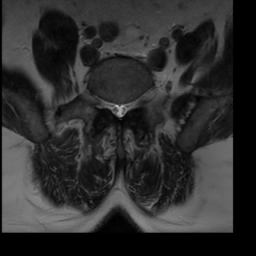CCS_severe_stenosis: (115, 95, 122, 124)
LFS_normal: (129, 93, 137, 116)
LLS_normal: (122, 95, 129, 119)
RFS_normal: (101, 92, 108, 117)
RLS_normal: (108, 95, 115, 119)
